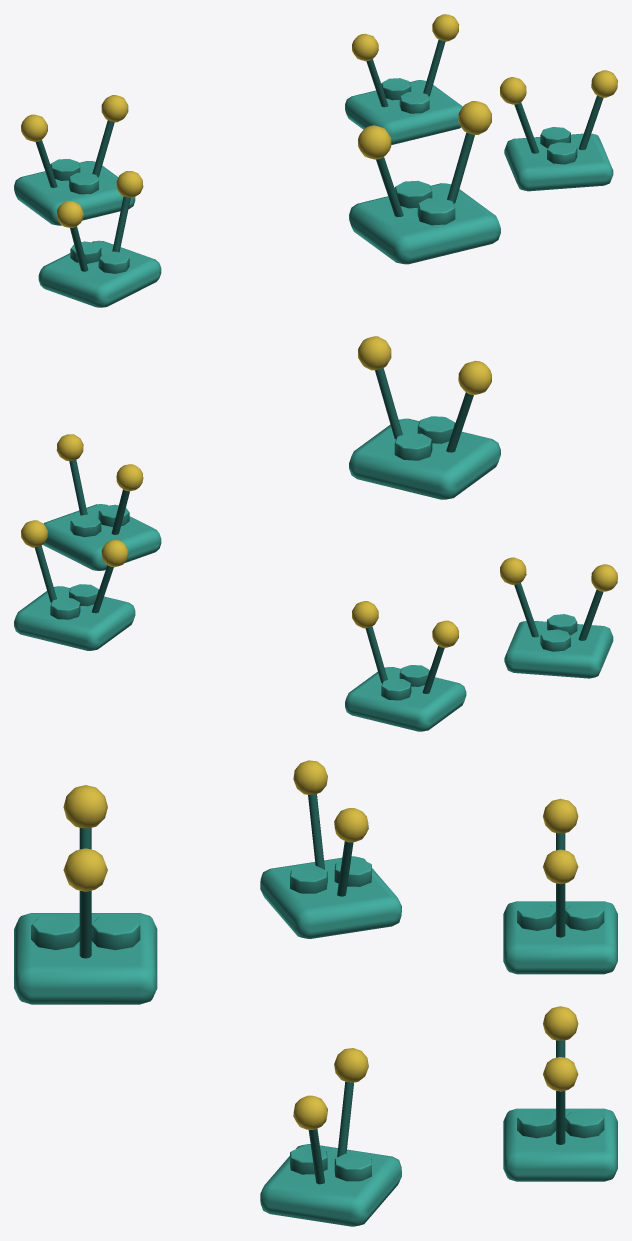
The model's file is out-of-towners-lod1.glb.
3 renders of one model, top to bottom at view 1: azimuth 30°, elevation 25°; view 2: azimuth 150°, elevation 25°; view 3: azimuth 270°, elevation 25°, orthographic. The views are drawn at different scales.
Visible parts, largest first — view 1: cap_hat, att3_hat, att2_hat, att0_hat, att1_hat; view 2: cap_hat, att0_hat, att1_hat, att3_hat, att2_hat; view 3: cap_hat, att3_hat, att2_hat, att0_hat, att1_hat.
Boxes of the visible parts, <box> form: cap_hat: <box>349,101,500,264</box>; att3_hat: <box>38,171,161,307</box>; att2_hat: <box>500,70,617,191</box>; att0_hat: <box>345,14,462,144</box>; att1_hat: <box>14,95,135,225</box>; cap_hat: <box>349,336,500,499</box>; att0_hat: <box>14,520,135,650</box>; att1_hat: <box>345,601,466,731</box>; att3_hat: <box>500,557,617,678</box>; att2_hat: <box>43,434,161,570</box>; cap_hat: <box>14,785,157,1004</box>; att3_hat: <box>260,760,401,938</box>; att2_hat: <box>260,1048,401,1226</box>; att0_hat: <box>503,1006,617,1181</box>; att1_hat: <box>503,798,617,974</box>.
Bounding box in the file's own units: 2.1 × 0.6632 × 1.53.
